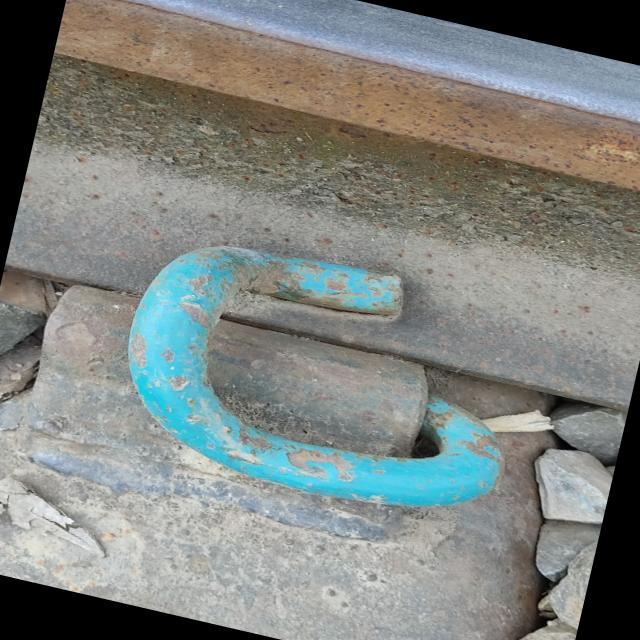track_bolt: (80, 205, 560, 556)
